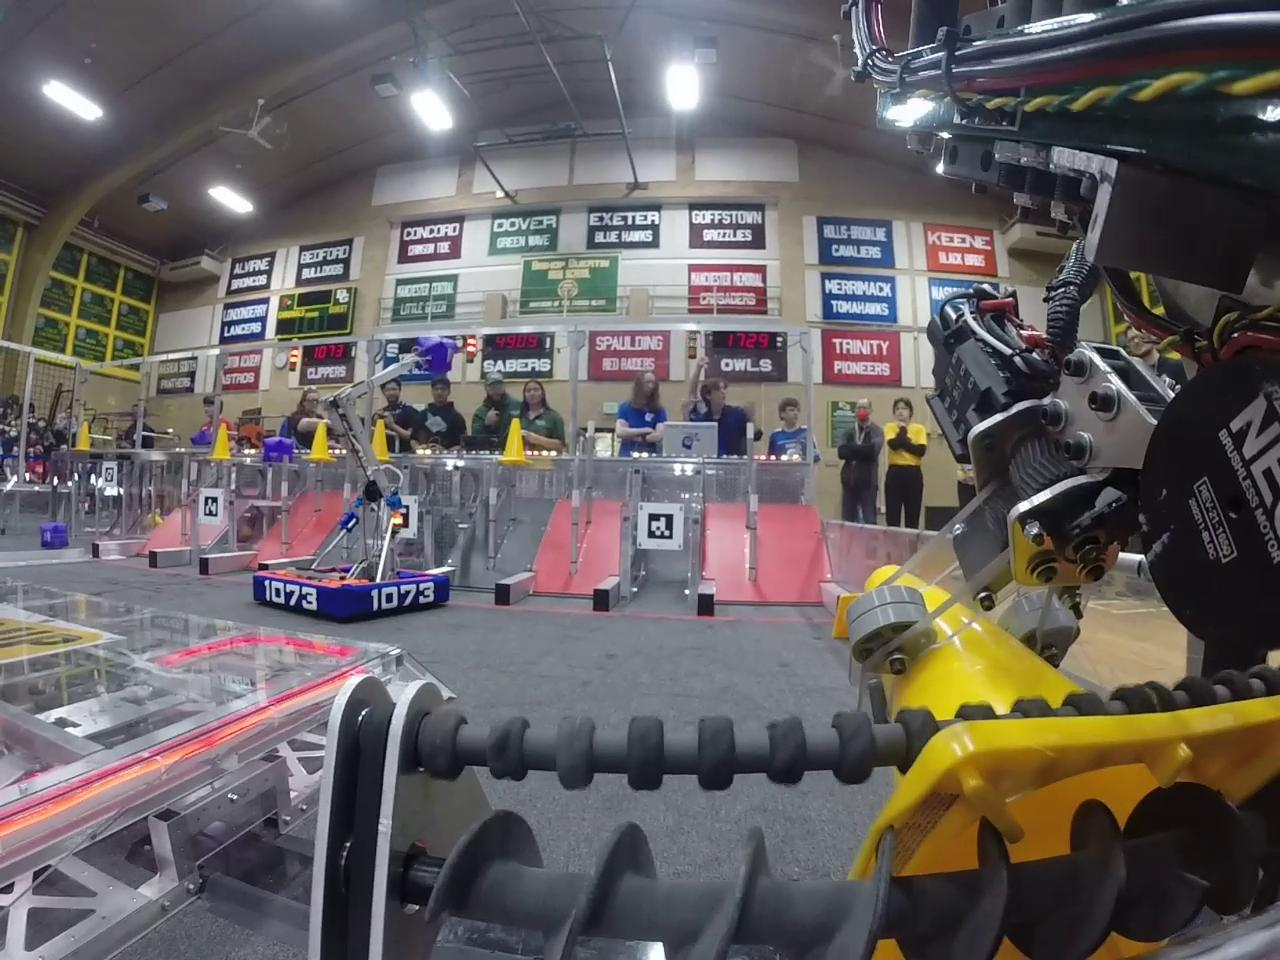robot: (258, 509, 455, 616)
